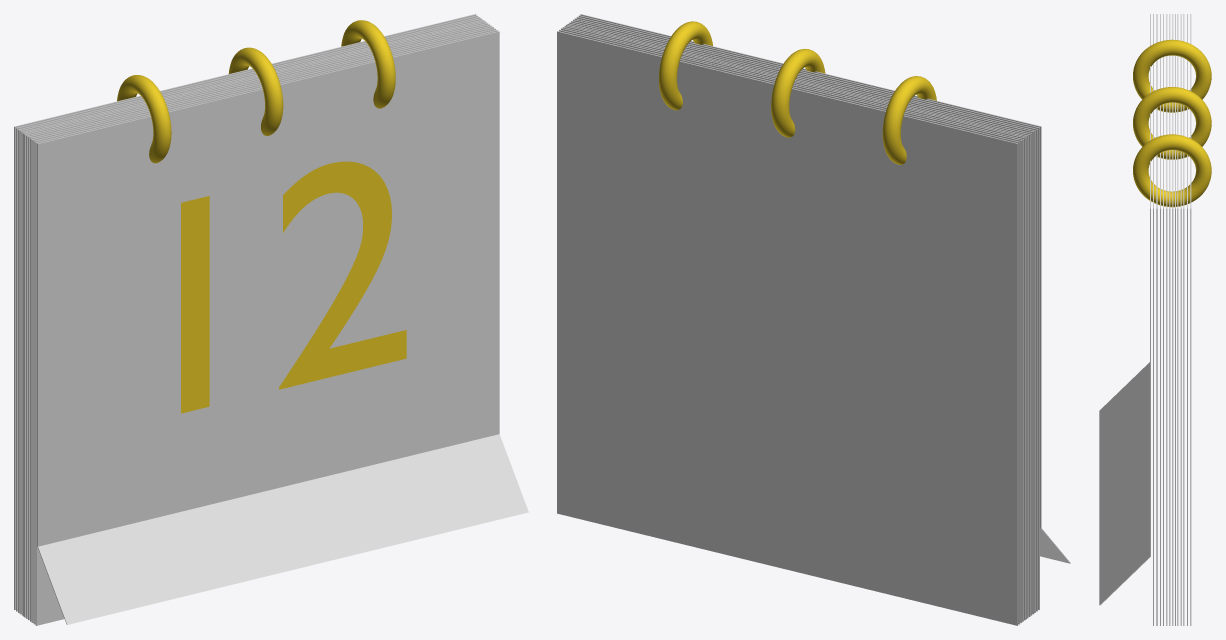
File: calender.glb
3 views of the same model, side by side, from view 1: azimuth 30°, elevation 25°; view 2: azimuth 150°, elevation 25°; view 3: azimuth 270°, elevation 25° (orthographic). The views are drawn at different scales.
Parts seen in each view (by area): view 1: Plane.013, Text, Torus.001, Plane.012, Plane.011, Plane.010, Plane.003, Plane, Plane.005, Plane.008, Plane.006, Plane.009 (+4 smaller); view 2: Plane.006, Torus.001, Plane.004, Plane.005, Plane.009, Plane.007, Plane.008, Plane.013, Plane.011, Plane.012, Plane.002, Plane.010 (+3 smaller); view 3: Plane.013, Torus.001, Plane, Plane.007, Plane.008, Plane.002, Plane.003, Plane.004, Plane.011, Plane.006, Plane.001, Plane.009 (+3 smaller).
Part boxes in pixels (bbox=[...]): Plane.013: bbox=[37, 31, 528, 624]; Text: bbox=[181, 161, 406, 413]; Torus.001: bbox=[117, 20, 395, 163]; Plane.012: bbox=[35, 30, 497, 625]; Plane.011: bbox=[33, 28, 495, 624]; Plane.010: bbox=[31, 27, 493, 622]; Plane.003: bbox=[19, 18, 481, 614]; Plane: bbox=[24, 21, 486, 617]; Plane.005: bbox=[16, 15, 478, 611]; Plane.008: bbox=[28, 24, 490, 620]; Plane.006: bbox=[14, 14, 476, 609]; Plane.009: bbox=[30, 25, 492, 621]; Plane.006: bbox=[557, 31, 1018, 625]; Torus.001: bbox=[659, 21, 936, 164]; Plane.004: bbox=[561, 28, 1022, 622]; Plane.005: bbox=[559, 29, 1020, 624]; Plane.009: bbox=[573, 19, 1034, 614]; Plane.007: bbox=[569, 22, 1030, 616]; Plane.008: bbox=[571, 21, 1032, 615]; Plane.013: bbox=[580, 14, 1070, 563]; Plane.011: bbox=[576, 16, 1037, 611]; Plane.012: bbox=[578, 15, 1039, 609]; Plane.002: bbox=[564, 25, 1025, 620]; Plane.010: bbox=[574, 18, 1035, 612]; Plane.013: bbox=[1099, 14, 1150, 605]; Torus.001: bbox=[1133, 39, 1211, 207]; Plane: bbox=[1172, 14, 1173, 625]; Plane.007: bbox=[1169, 14, 1170, 625]; Plane.008: bbox=[1166, 14, 1167, 625]; Plane.002: bbox=[1177, 14, 1178, 625]; Plane.003: bbox=[1180, 14, 1181, 625]; Plane.004: bbox=[1183, 14, 1184, 625]; Plane.011: bbox=[1156, 14, 1157, 625]; Plane.006: bbox=[1190, 14, 1191, 625]; Plane.001: bbox=[1175, 14, 1175, 625]; Plane.009: bbox=[1163, 14, 1163, 625].
Size of the model in its own units: 2 by 2.11 by 0.4883.
